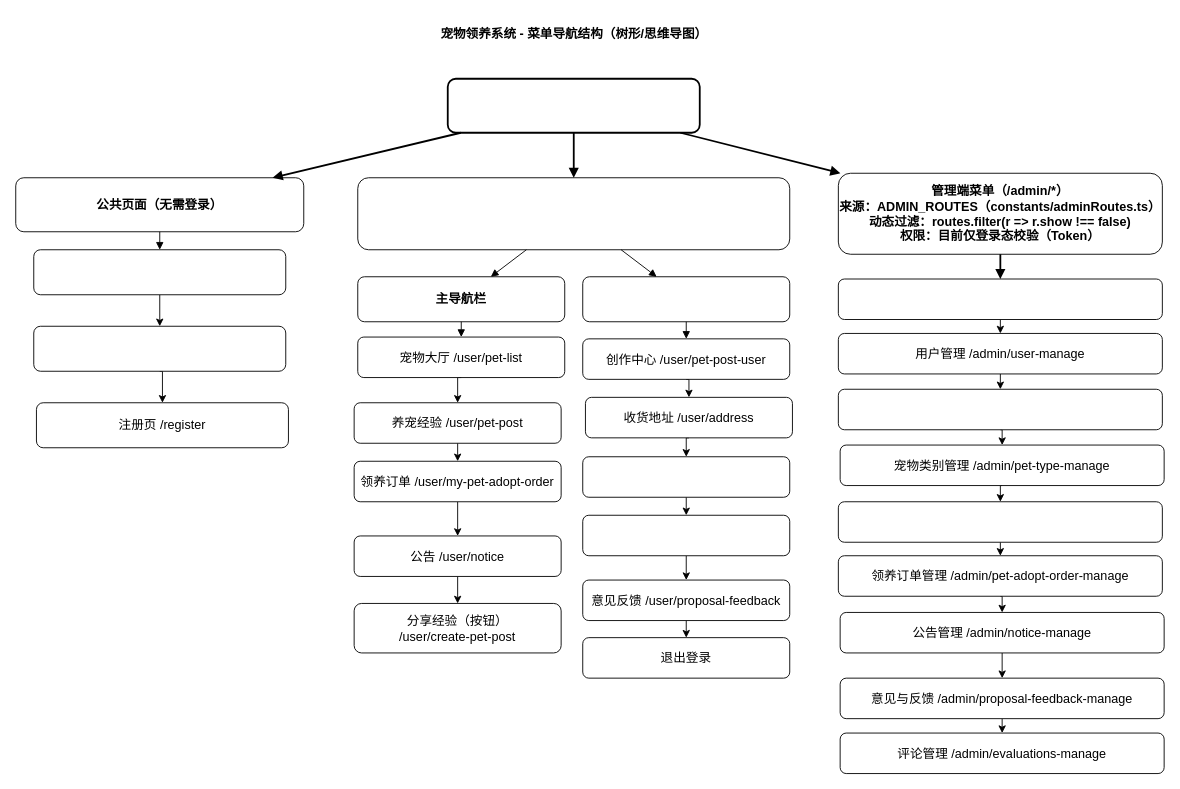
This 1180x789 diagram has some shape labels left out. The shapes that lost their labels are listed below. From the top down, each one's centre as x and y in pixels, then its label:
[573,105]: 宠物领养系统
[573,213]: 用户端菜单（/user/*） 来源：NAV_ITEMS + dropdownItems（静态配置） 权限：仅登录态校验（Token）
[159,272]: 首页 /view
[686,299]: 用户下拉菜单
[999,299]: 仪表盘 /admin/admin-layout
[159,348]: 登录页 /login
[999,409]: 宠物管理 /admin/pet-manage
[686,476]: 修改信息（弹窗）
[686,535]: 修改密码（弹窗）
[999,521]: 经验帖子管理 /admin/pet-post-manage
